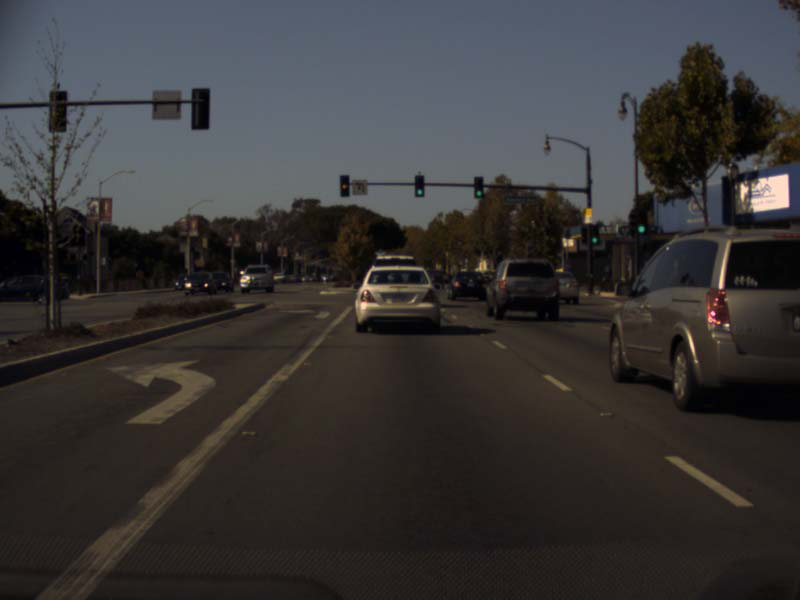Green: (637, 209, 647, 235), (473, 176, 483, 197), (415, 175, 423, 195), (591, 222, 598, 244)
Red: (340, 177, 349, 196)
